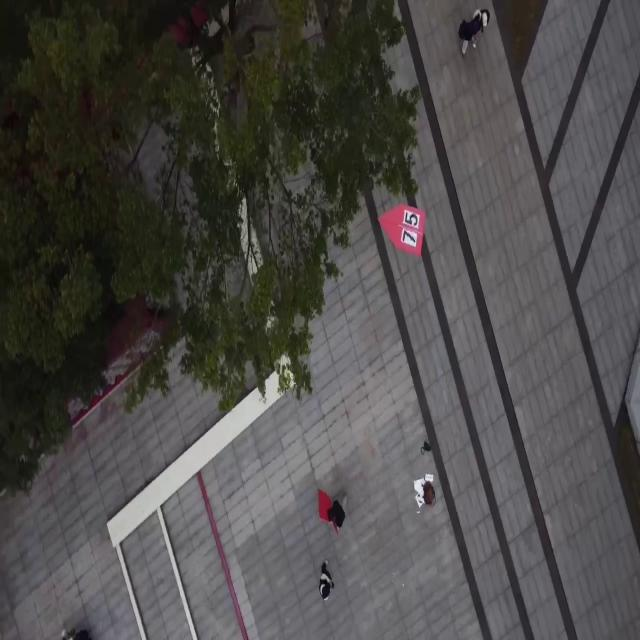-sign-: (377, 202, 426, 258)
